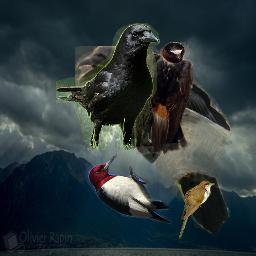Crow: (75, 46, 232, 237), (56, 23, 160, 150)
Cuckoo: (179, 180, 215, 240)
Swallow: (134, 42, 193, 155)
Woodpecker: (84, 154, 176, 224)
